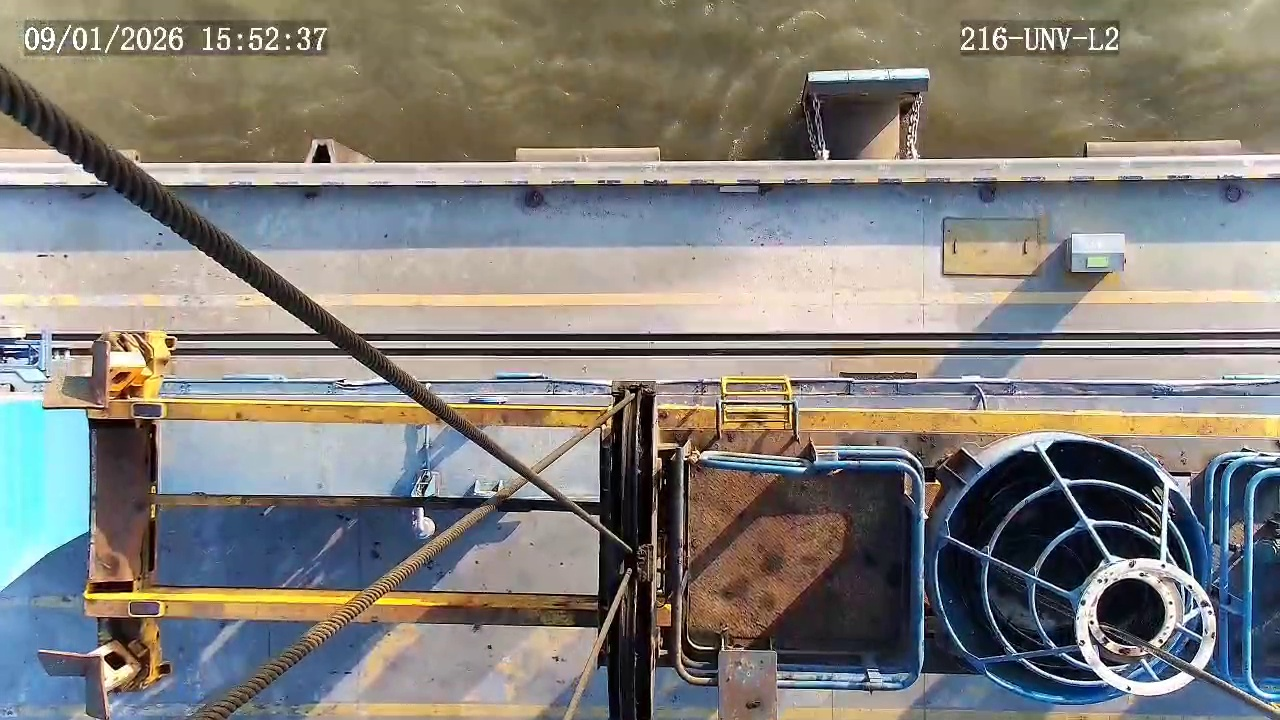left: (1073, 557, 1216, 697)
